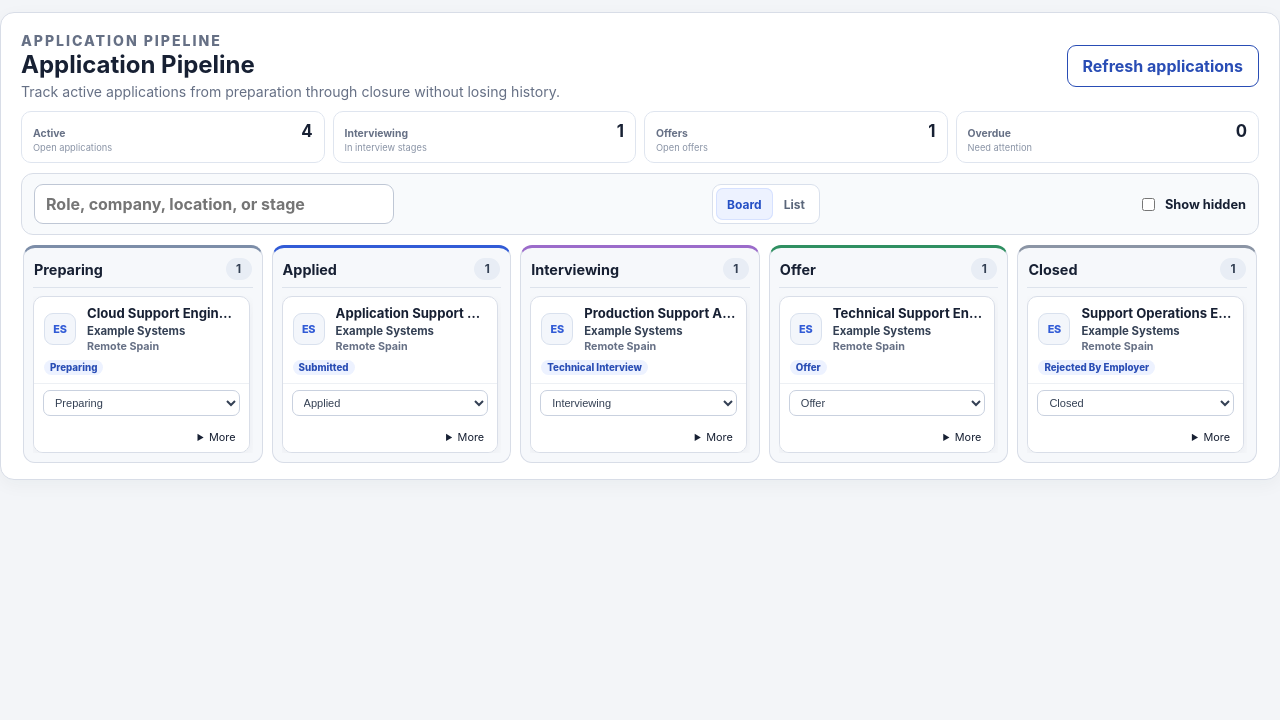
Test: ApplicationDashboard › cancels the close dialog without mutating the application
The width and height of the screenshot is (1280, 720).
Select "Closed" in the dropdown named "Move Application Support Engineer to stage": (390, 403) [292,390,488,416]
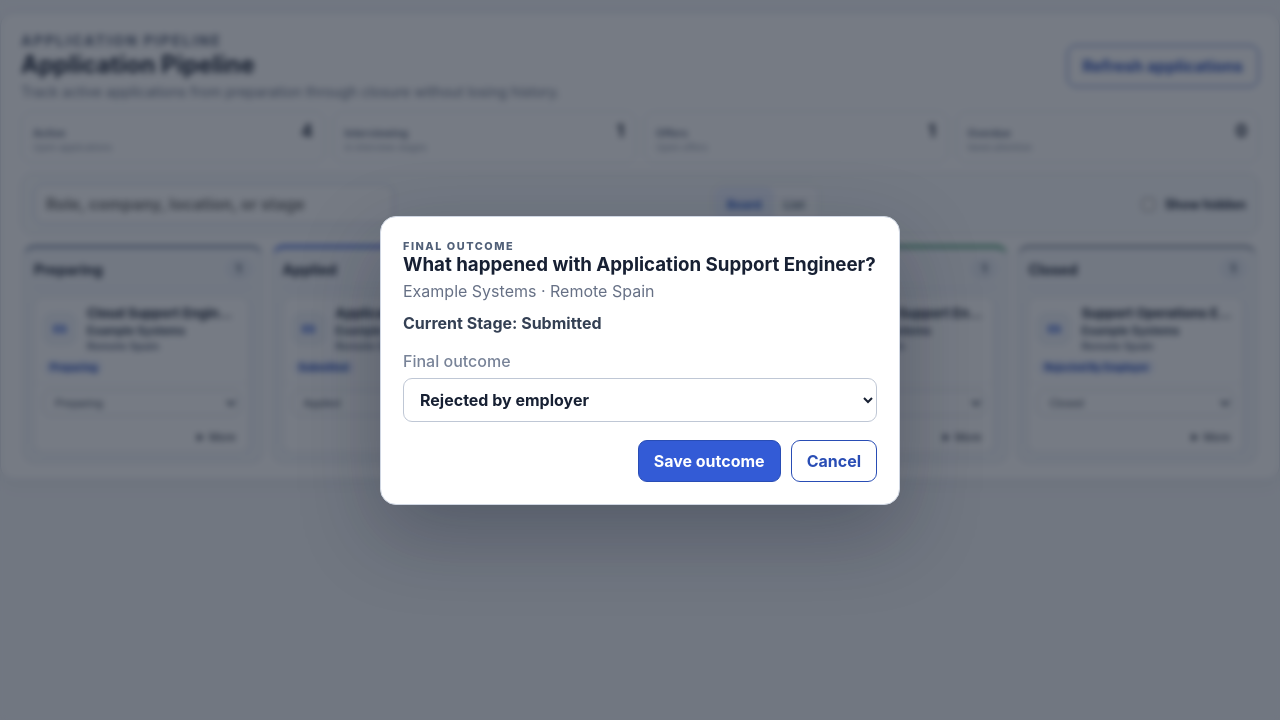
Click the button "Cancel": (834, 460) [791,440,877,482]
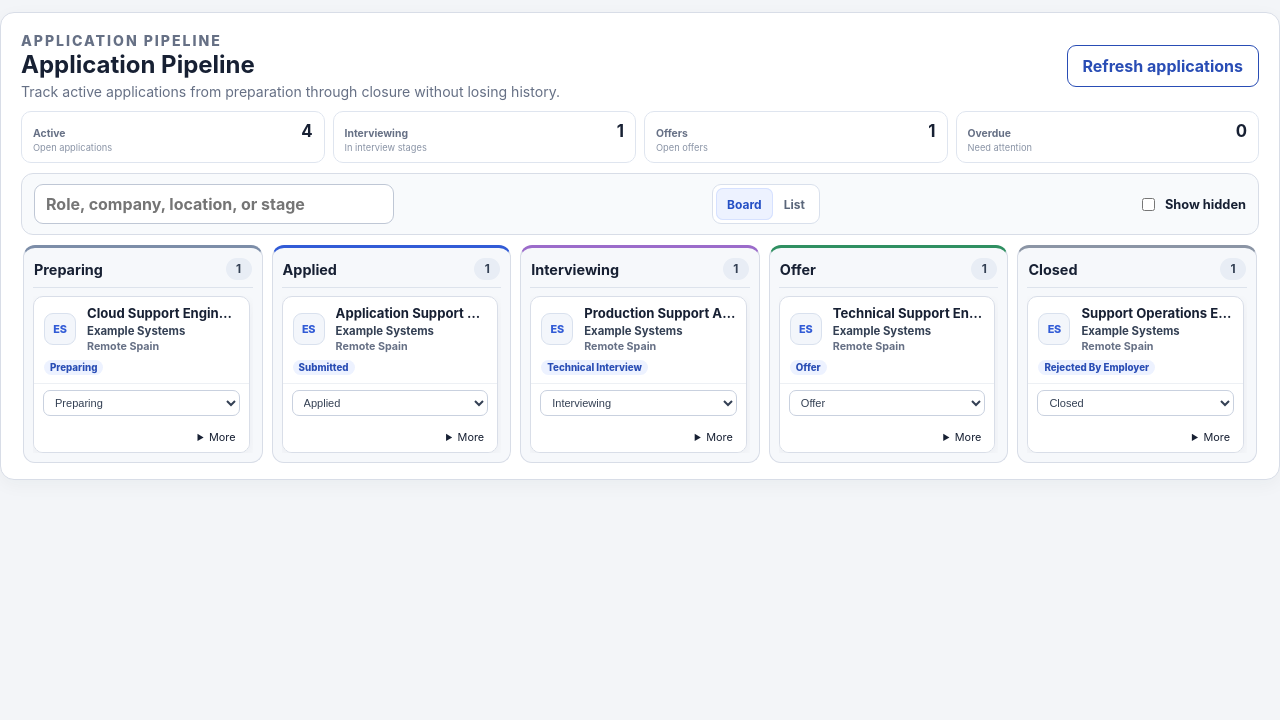
Check: the heading "What happened with Application Support Engineer?" is gone
